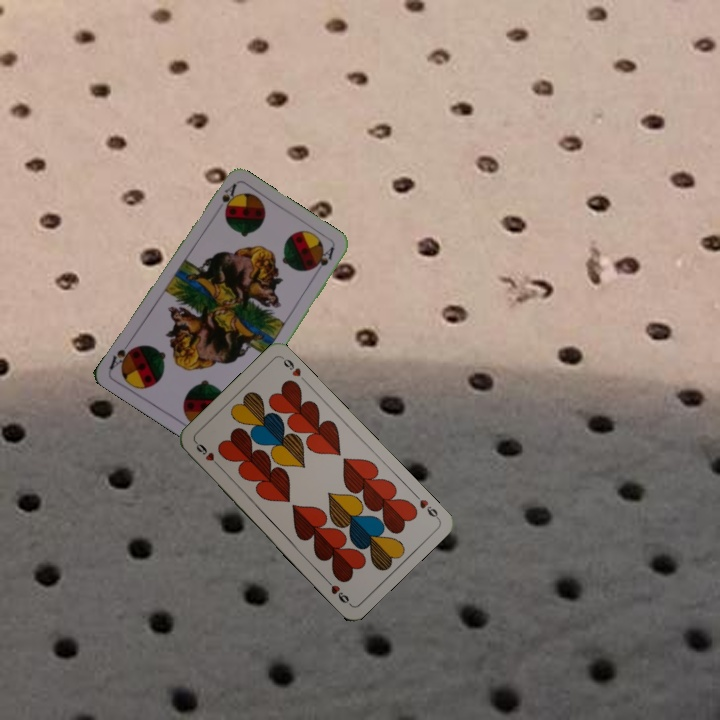H9: (191, 438, 223, 470), (410, 489, 441, 522)
SA: (218, 180, 239, 209)
